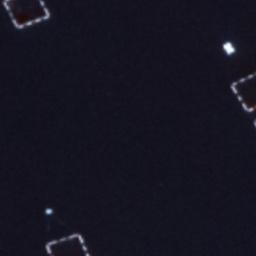square_solid: (1, 1, 52, 31), (229, 69, 256, 116), (41, 231, 90, 256)
